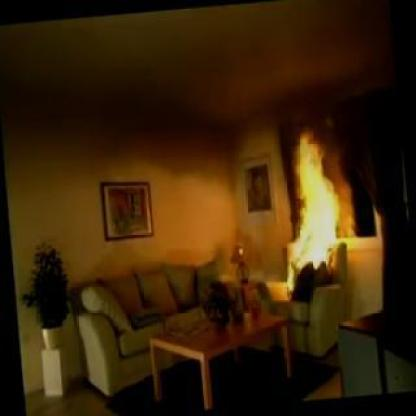Fire: (273, 125, 359, 283)
